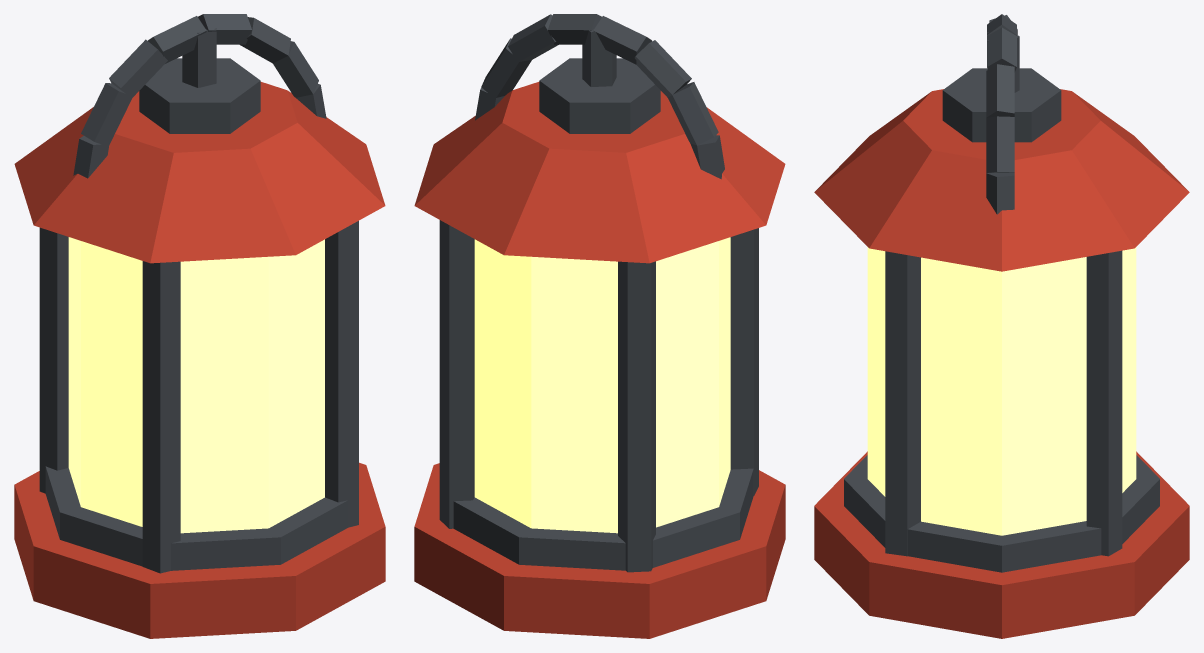
File: lantern.fbx
3 renders of one model, left to right at view 1: azimuth 30°, elevation 25°; view 2: azimuth 150°, elevation 25°; view 3: azimuth 270°, elevation 25°, orthographic. The views are drawn at different scales.
Visible parts, largest first — view 1: lantern; view 2: lantern; view 3: lantern.
Part boxes in pixels (left/top/right/bottom): lantern: left=14, top=14, right=385, bottom=638; lantern: left=414, top=14, right=785, bottom=638; lantern: left=814, top=14, right=1189, bottom=638.
Bounding box in the file's own units: 19 × 29.78 × 19.
